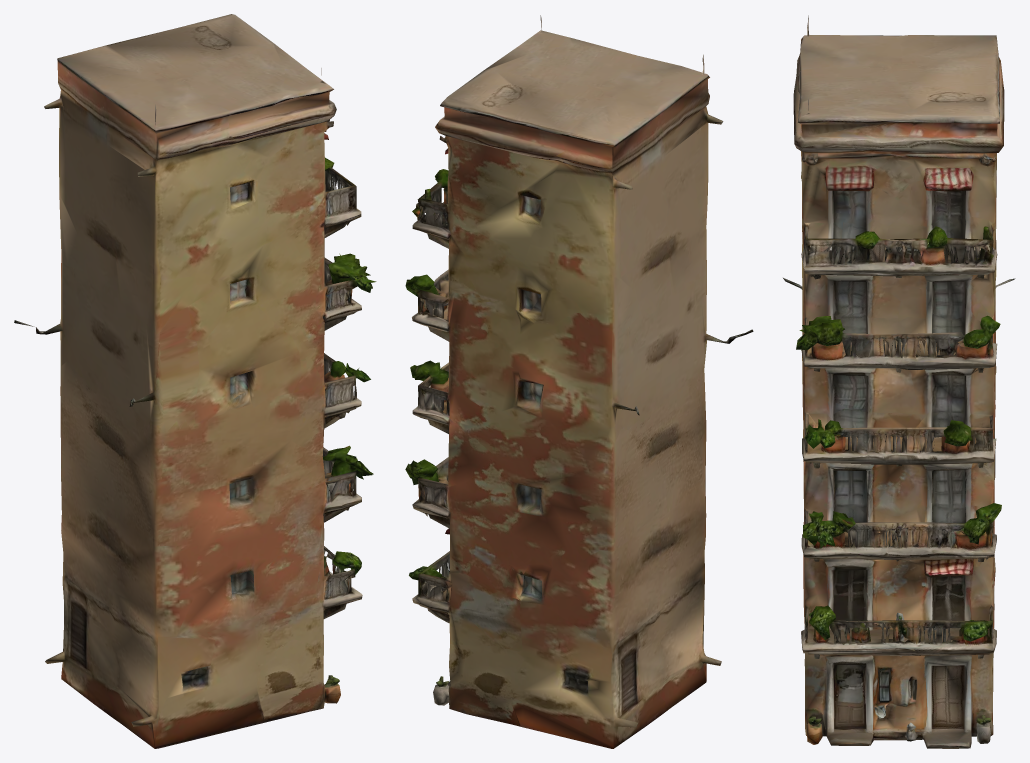
The model's file is naples-balcony-house.glb.
The picture shows the model from 3 angles, left to right: view 1: azimuth 30°, elevation 25°; view 2: azimuth 150°, elevation 25°; view 3: azimuth 270°, elevation 25°; orthographic projection. The views are drawn at different scales.
Visible parts, largest first — view 1: tripo_node_957ca4a4-3375-4ff5-8bc5-62a4afbbcbc8; view 2: tripo_node_957ca4a4-3375-4ff5-8bc5-62a4afbbcbc8; view 3: tripo_node_957ca4a4-3375-4ff5-8bc5-62a4afbbcbc8.
Boxes of the visible parts, x1,y1,x2,y2 form: tripo_node_957ca4a4-3375-4ff5-8bc5-62a4afbbcbc8: [14, 14, 376, 748]; tripo_node_957ca4a4-3375-4ff5-8bc5-62a4afbbcbc8: [405, 15, 753, 748]; tripo_node_957ca4a4-3375-4ff5-8bc5-62a4afbbcbc8: [783, 15, 1015, 748].
Size of the model in its own units: 4.26 by 9.97 by 3.29.
Materials: 1 (1 with a texture image).
